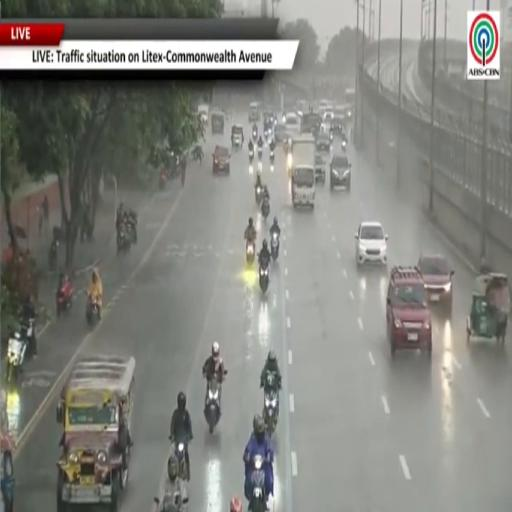car: (387, 266, 432, 358), (418, 254, 454, 313), (355, 222, 387, 265), (330, 153, 351, 190), (213, 146, 230, 173), (301, 112, 321, 134), (231, 124, 244, 148), (211, 110, 224, 134), (315, 155, 326, 183), (316, 133, 330, 153), (331, 115, 344, 135), (274, 123, 287, 142), (264, 110, 276, 130), (198, 104, 209, 125), (249, 102, 260, 122), (323, 108, 333, 123)
jeepney: (57, 356, 135, 511), (0, 432, 15, 511)
motorcycle: (6, 330, 28, 383), (154, 479, 188, 511), (263, 372, 280, 435), (249, 455, 266, 511), (204, 379, 221, 434), (264, 391, 278, 435), (174, 440, 188, 482), (56, 282, 73, 316), (117, 223, 131, 253), (86, 296, 99, 326), (49, 238, 59, 270), (259, 262, 269, 294), (271, 232, 279, 261), (261, 197, 270, 219), (246, 243, 255, 265), (159, 172, 167, 190), (255, 186, 262, 205), (249, 149, 254, 163), (270, 150, 275, 163), (258, 146, 263, 158), (342, 139, 347, 151), (329, 131, 333, 144), (252, 131, 257, 140), (264, 130, 269, 139)
tricycle: (467, 274, 510, 344)
truck: (290, 135, 315, 209)
